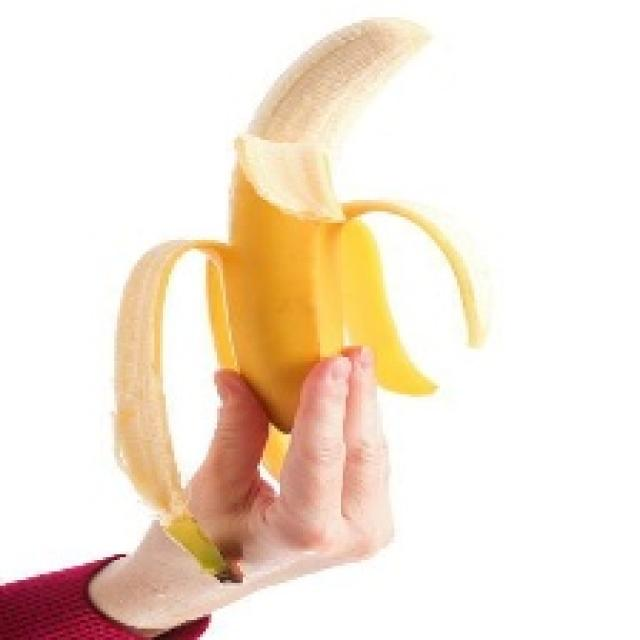Banana: (108, 14, 486, 583)
